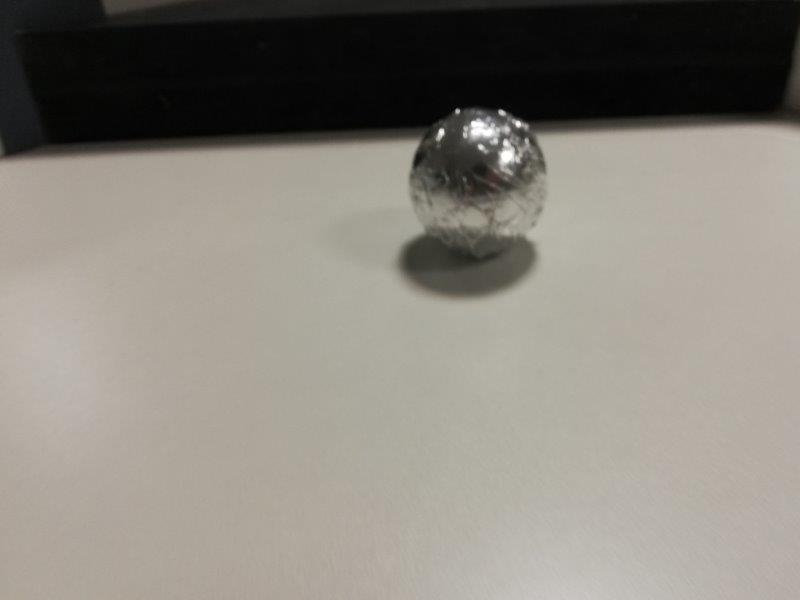bianca: (408, 103, 545, 257)
